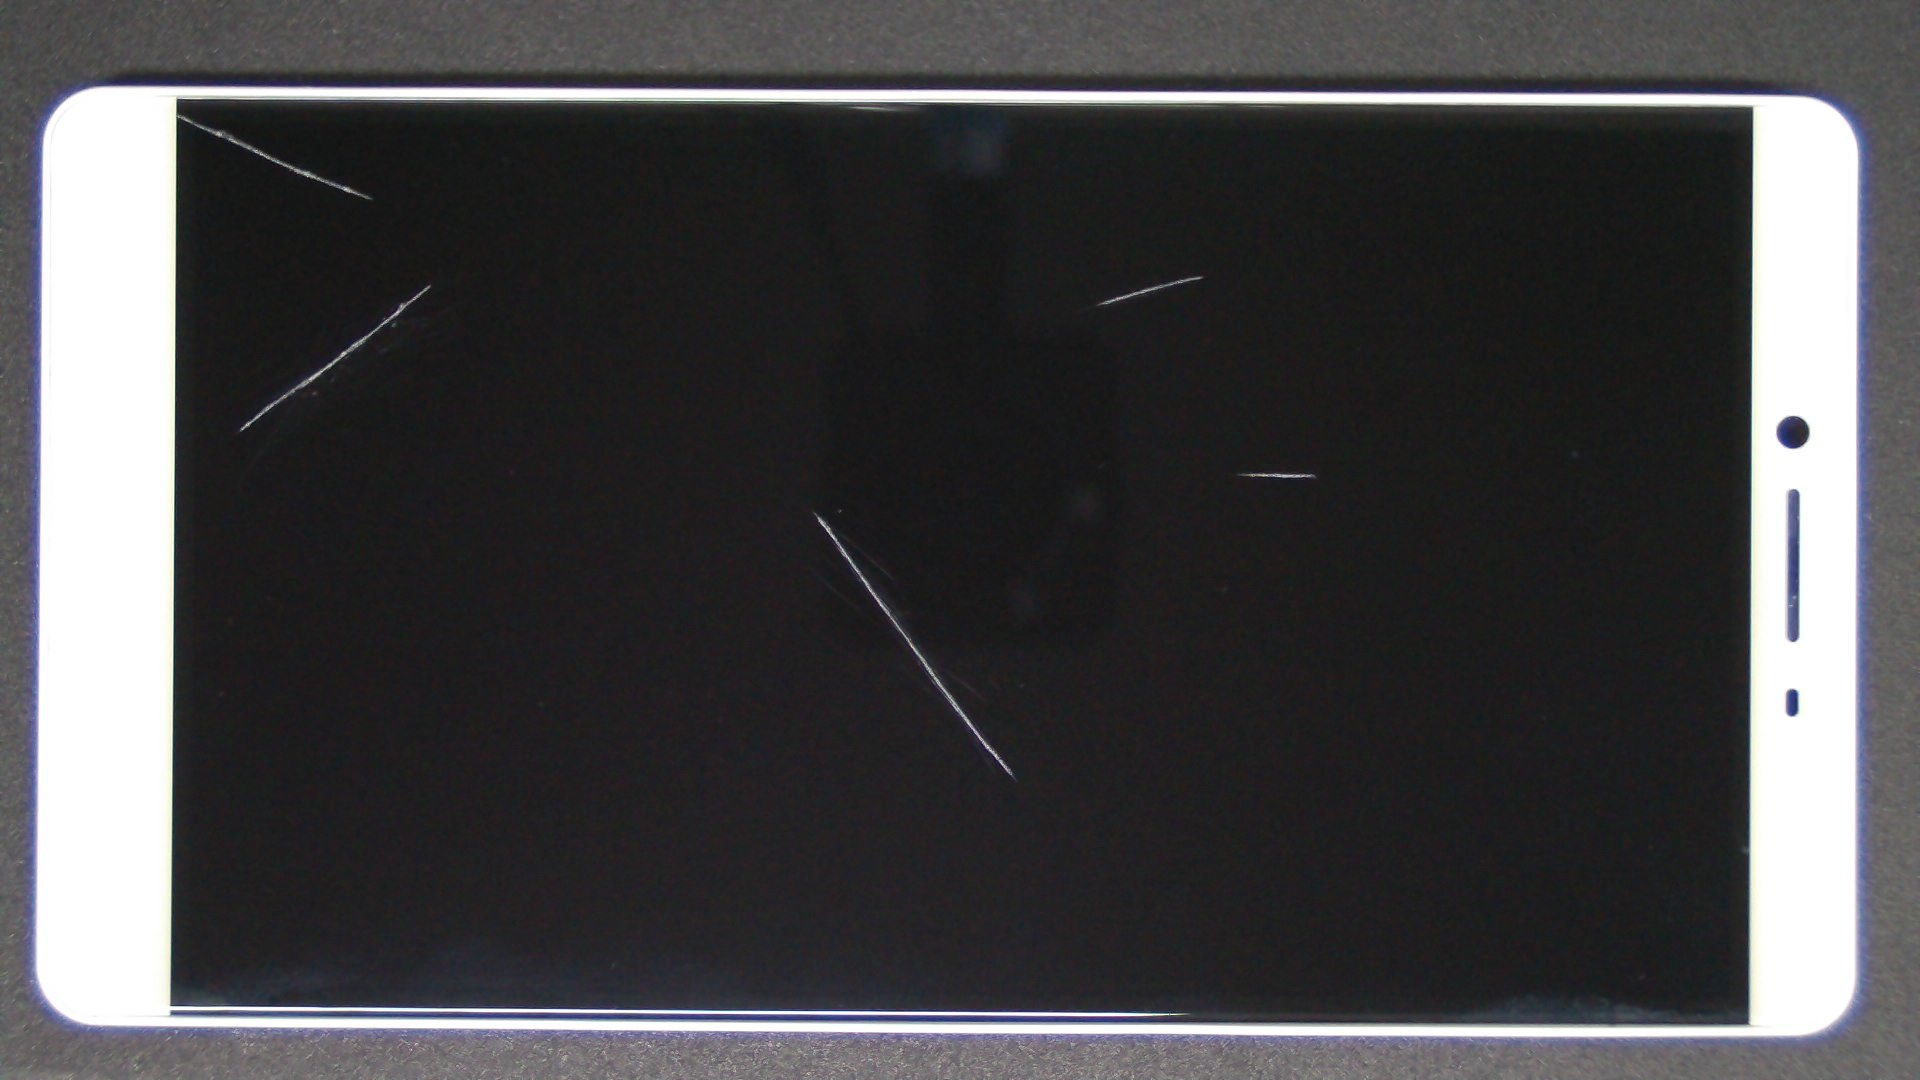oil: (621, 236, 1859, 708), (407, 255, 1221, 767), (600, 137, 1800, 413), (216, 141, 646, 425), (88, 57, 266, 171)
